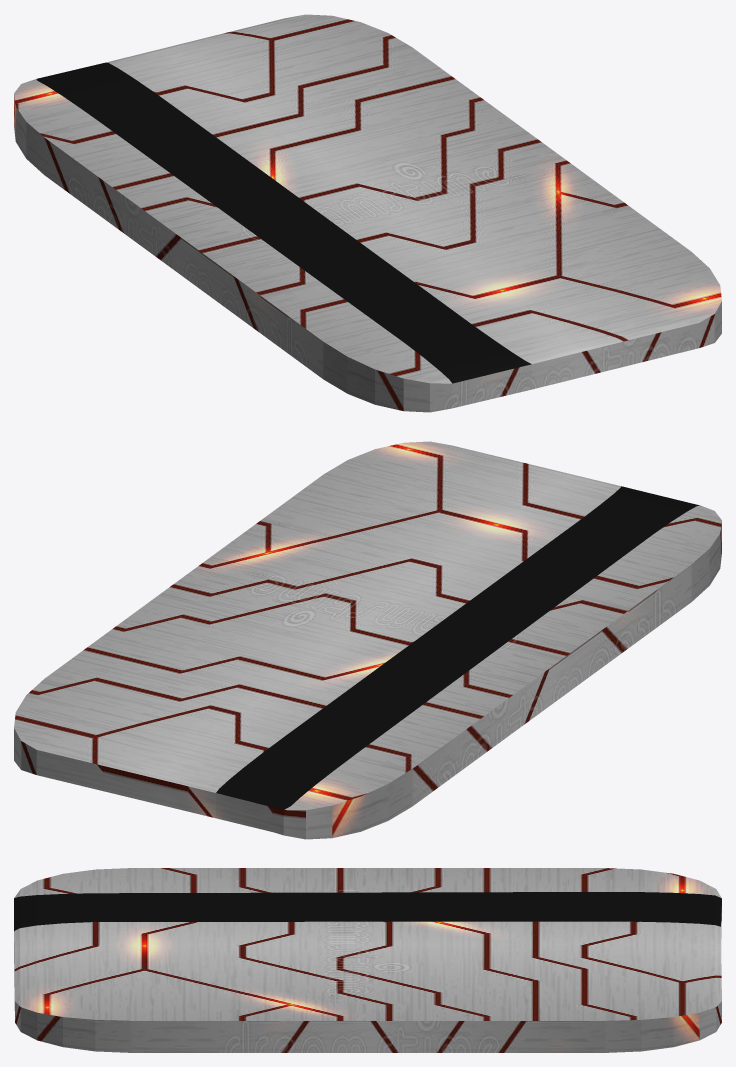
The model's file is Tarjeta.fbx.
3 views of the same model, one above another, from view 1: azimuth 30°, elevation 25°; view 2: azimuth 150°, elevation 25°; view 3: azimuth 270°, elevation 25° (orthographic). The views are drawn at different scales.
Parts seen in each view (by area): view 1: Tarjeta.001; view 2: Tarjeta.001; view 3: Tarjeta.001.
Boxes of the visible parts, x1,y1,x2,y2 form: Tarjeta.001: (14, 14, 721, 412); Tarjeta.001: (14, 441, 721, 839); Tarjeta.001: (14, 868, 721, 1052).
Size of the model in its own units: 15.32 by 1.5 by 30.
Materials: 2 (2 with a texture image).
